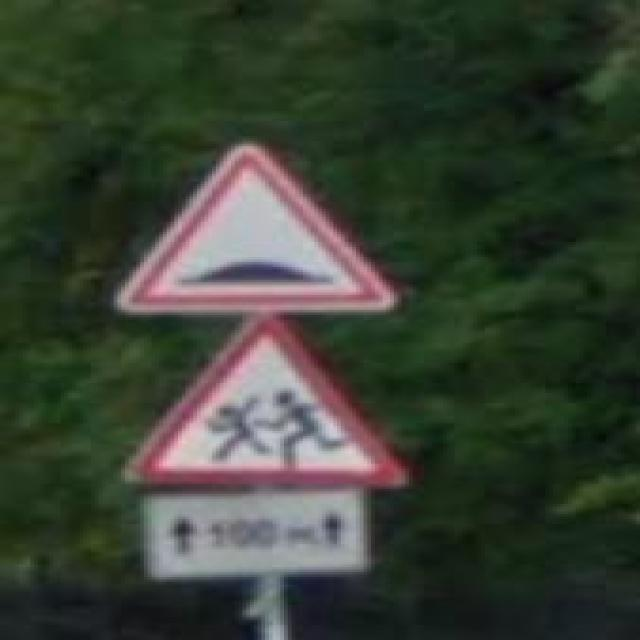children: (125, 315, 413, 489)
road_rough: (110, 139, 398, 315)
